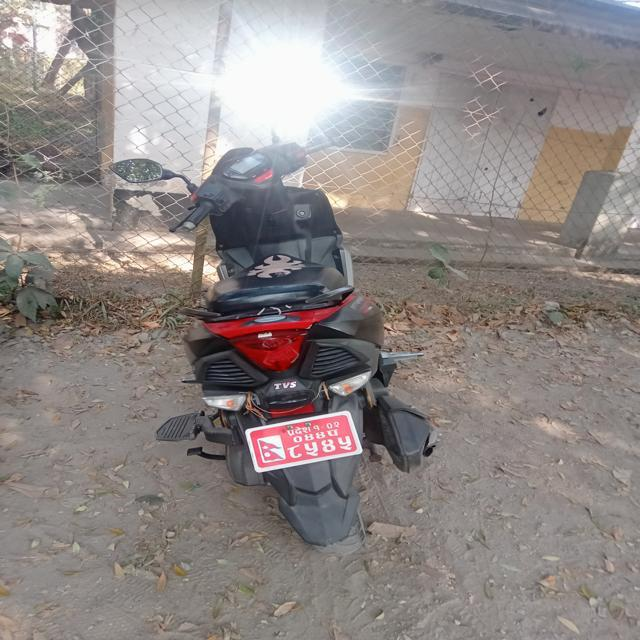license_plate: (236, 408, 364, 480)
